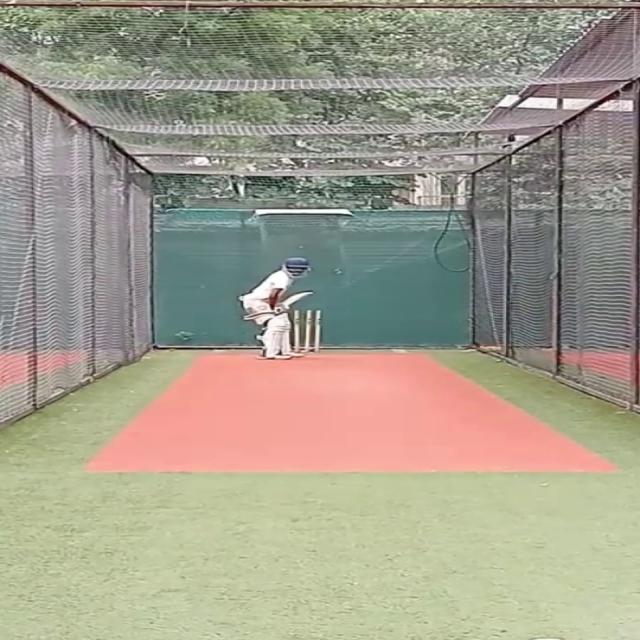stump: (293, 308, 326, 352)
